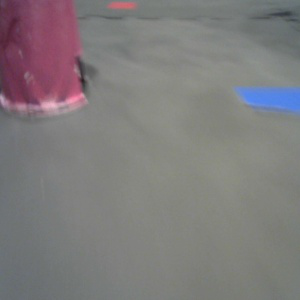middle: (1, 1, 89, 116)
